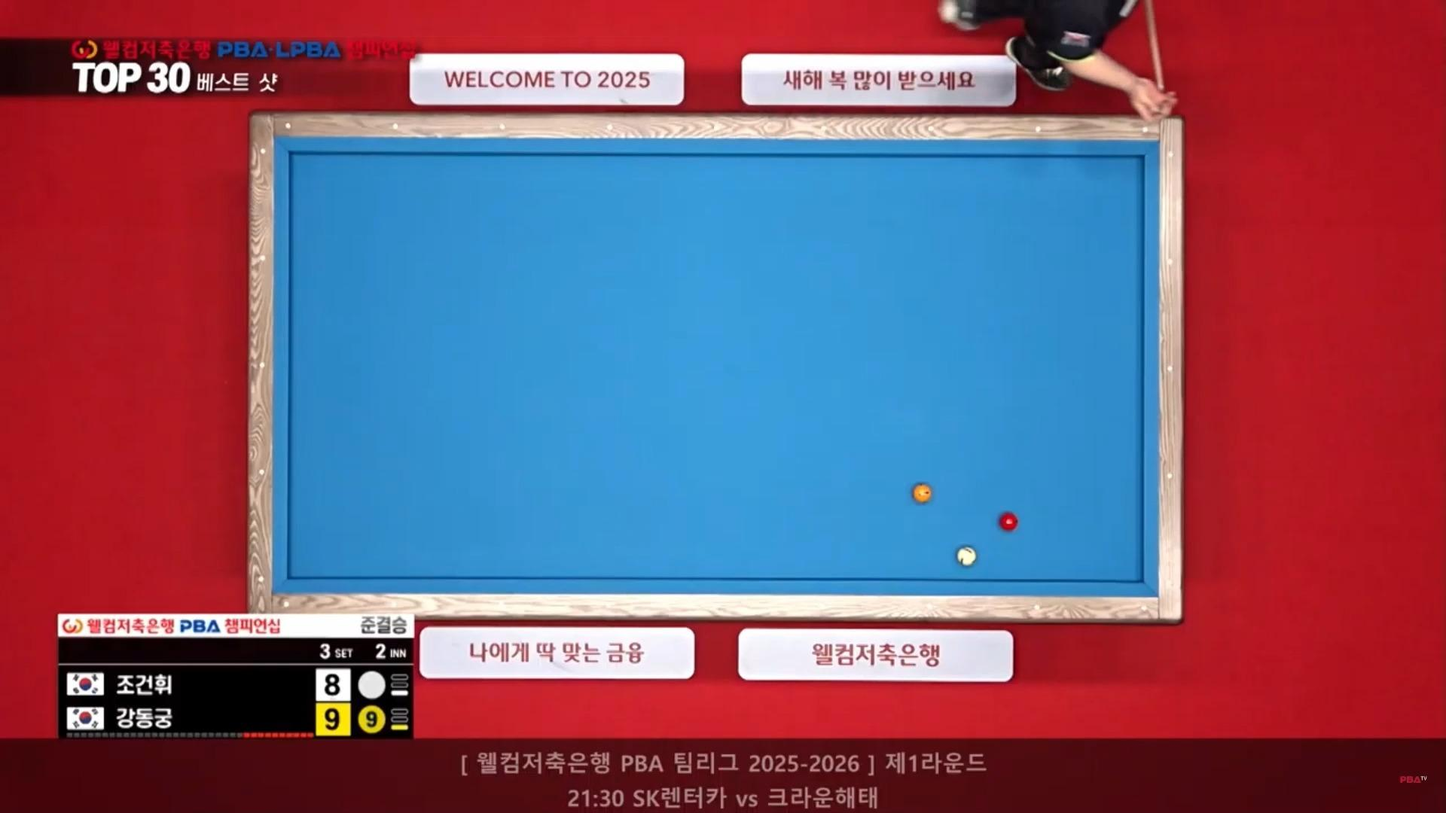Red: (1001, 515, 1024, 533)
White: (955, 546, 979, 565)
billiard-ball-Yellow: (909, 476, 936, 509)
